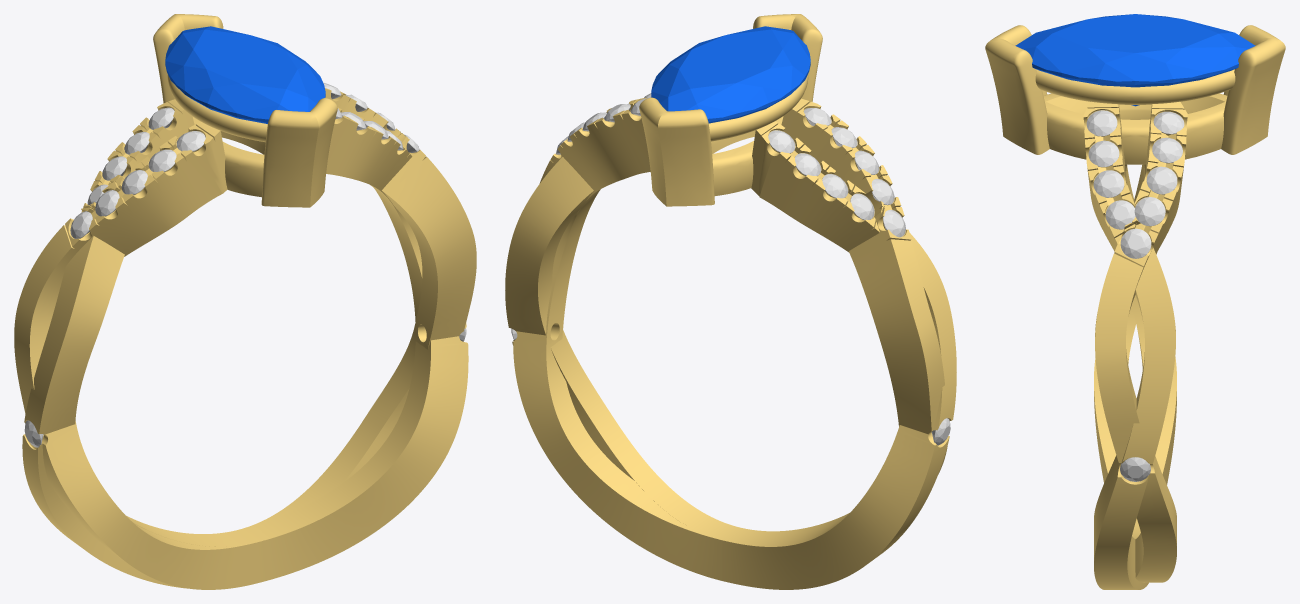
The model's file is bluesapphire-marquise-yellowgold-protectededges2prongs-twist-sidestones.glb.
The picture shows the model from 3 angles, left to right: view 1: azimuth 30°, elevation 25°; view 2: azimuth 150°, elevation 25°; view 3: azimuth 270°, elevation 25°; orthographic projection. The views are drawn at different scales.
Visible parts, largest first — view 1: metal, stone; view 2: metal, stone; view 3: metal, stone, Twist diamonds.015, Twist diamonds.016, Twist diamonds.017, Twist diamonds.012, Twist diamonds.011, Twist diamonds.013, Twist diamonds.014, Twist diamonds.018, Twist diamonds.010, Twist diamonds.019.
Part boxes in pixels (bbox=[...]): metal: bbox=[14, 14, 476, 589]; stone: bbox=[165, 26, 325, 123]; metal: bbox=[505, 14, 956, 589]; stone: bbox=[651, 26, 810, 123]; metal: bbox=[985, 25, 1285, 589]; stone: bbox=[1015, 14, 1255, 106]; Twist diamonds.015: bbox=[1120, 228, 1151, 258]; Twist diamonds.016: bbox=[1134, 197, 1165, 226]; Twist diamonds.017: bbox=[1146, 166, 1177, 194]; Twist diamonds.012: bbox=[1093, 170, 1124, 197]; Twist diamonds.011: bbox=[1105, 200, 1135, 229]; Twist diamonds.013: bbox=[1088, 140, 1119, 167]; Twist diamonds.014: bbox=[1086, 110, 1117, 136]; Twist diamonds.018: bbox=[1152, 137, 1182, 163]; Twist diamonds.010: bbox=[1120, 457, 1150, 481]; Twist diamonds.019: bbox=[1153, 111, 1184, 134].
Size of the model in its own units: 19.97 by 22.73 by 11.69.
